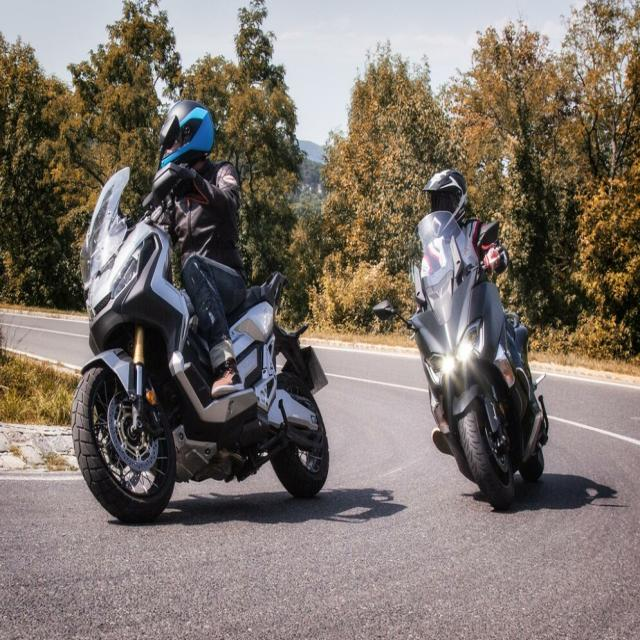Motorcycle: (71, 169, 329, 522), (408, 210, 550, 509)
